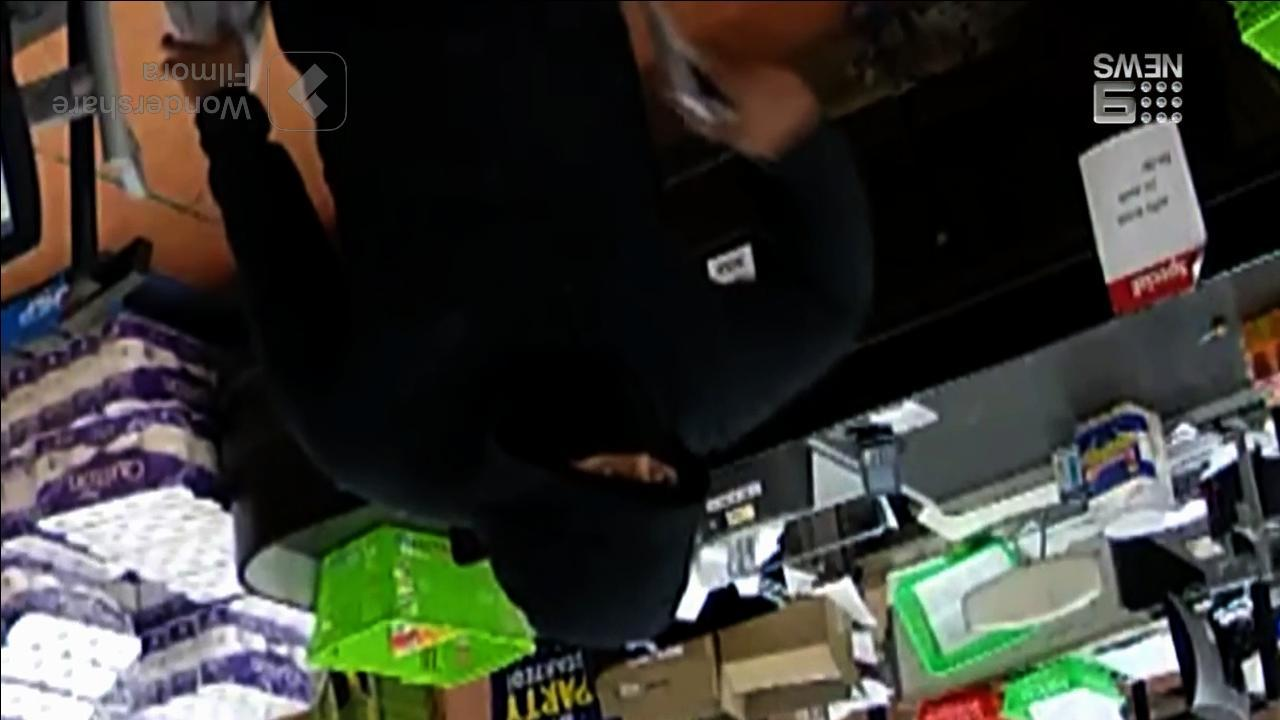gun: (620, 0, 739, 140)
